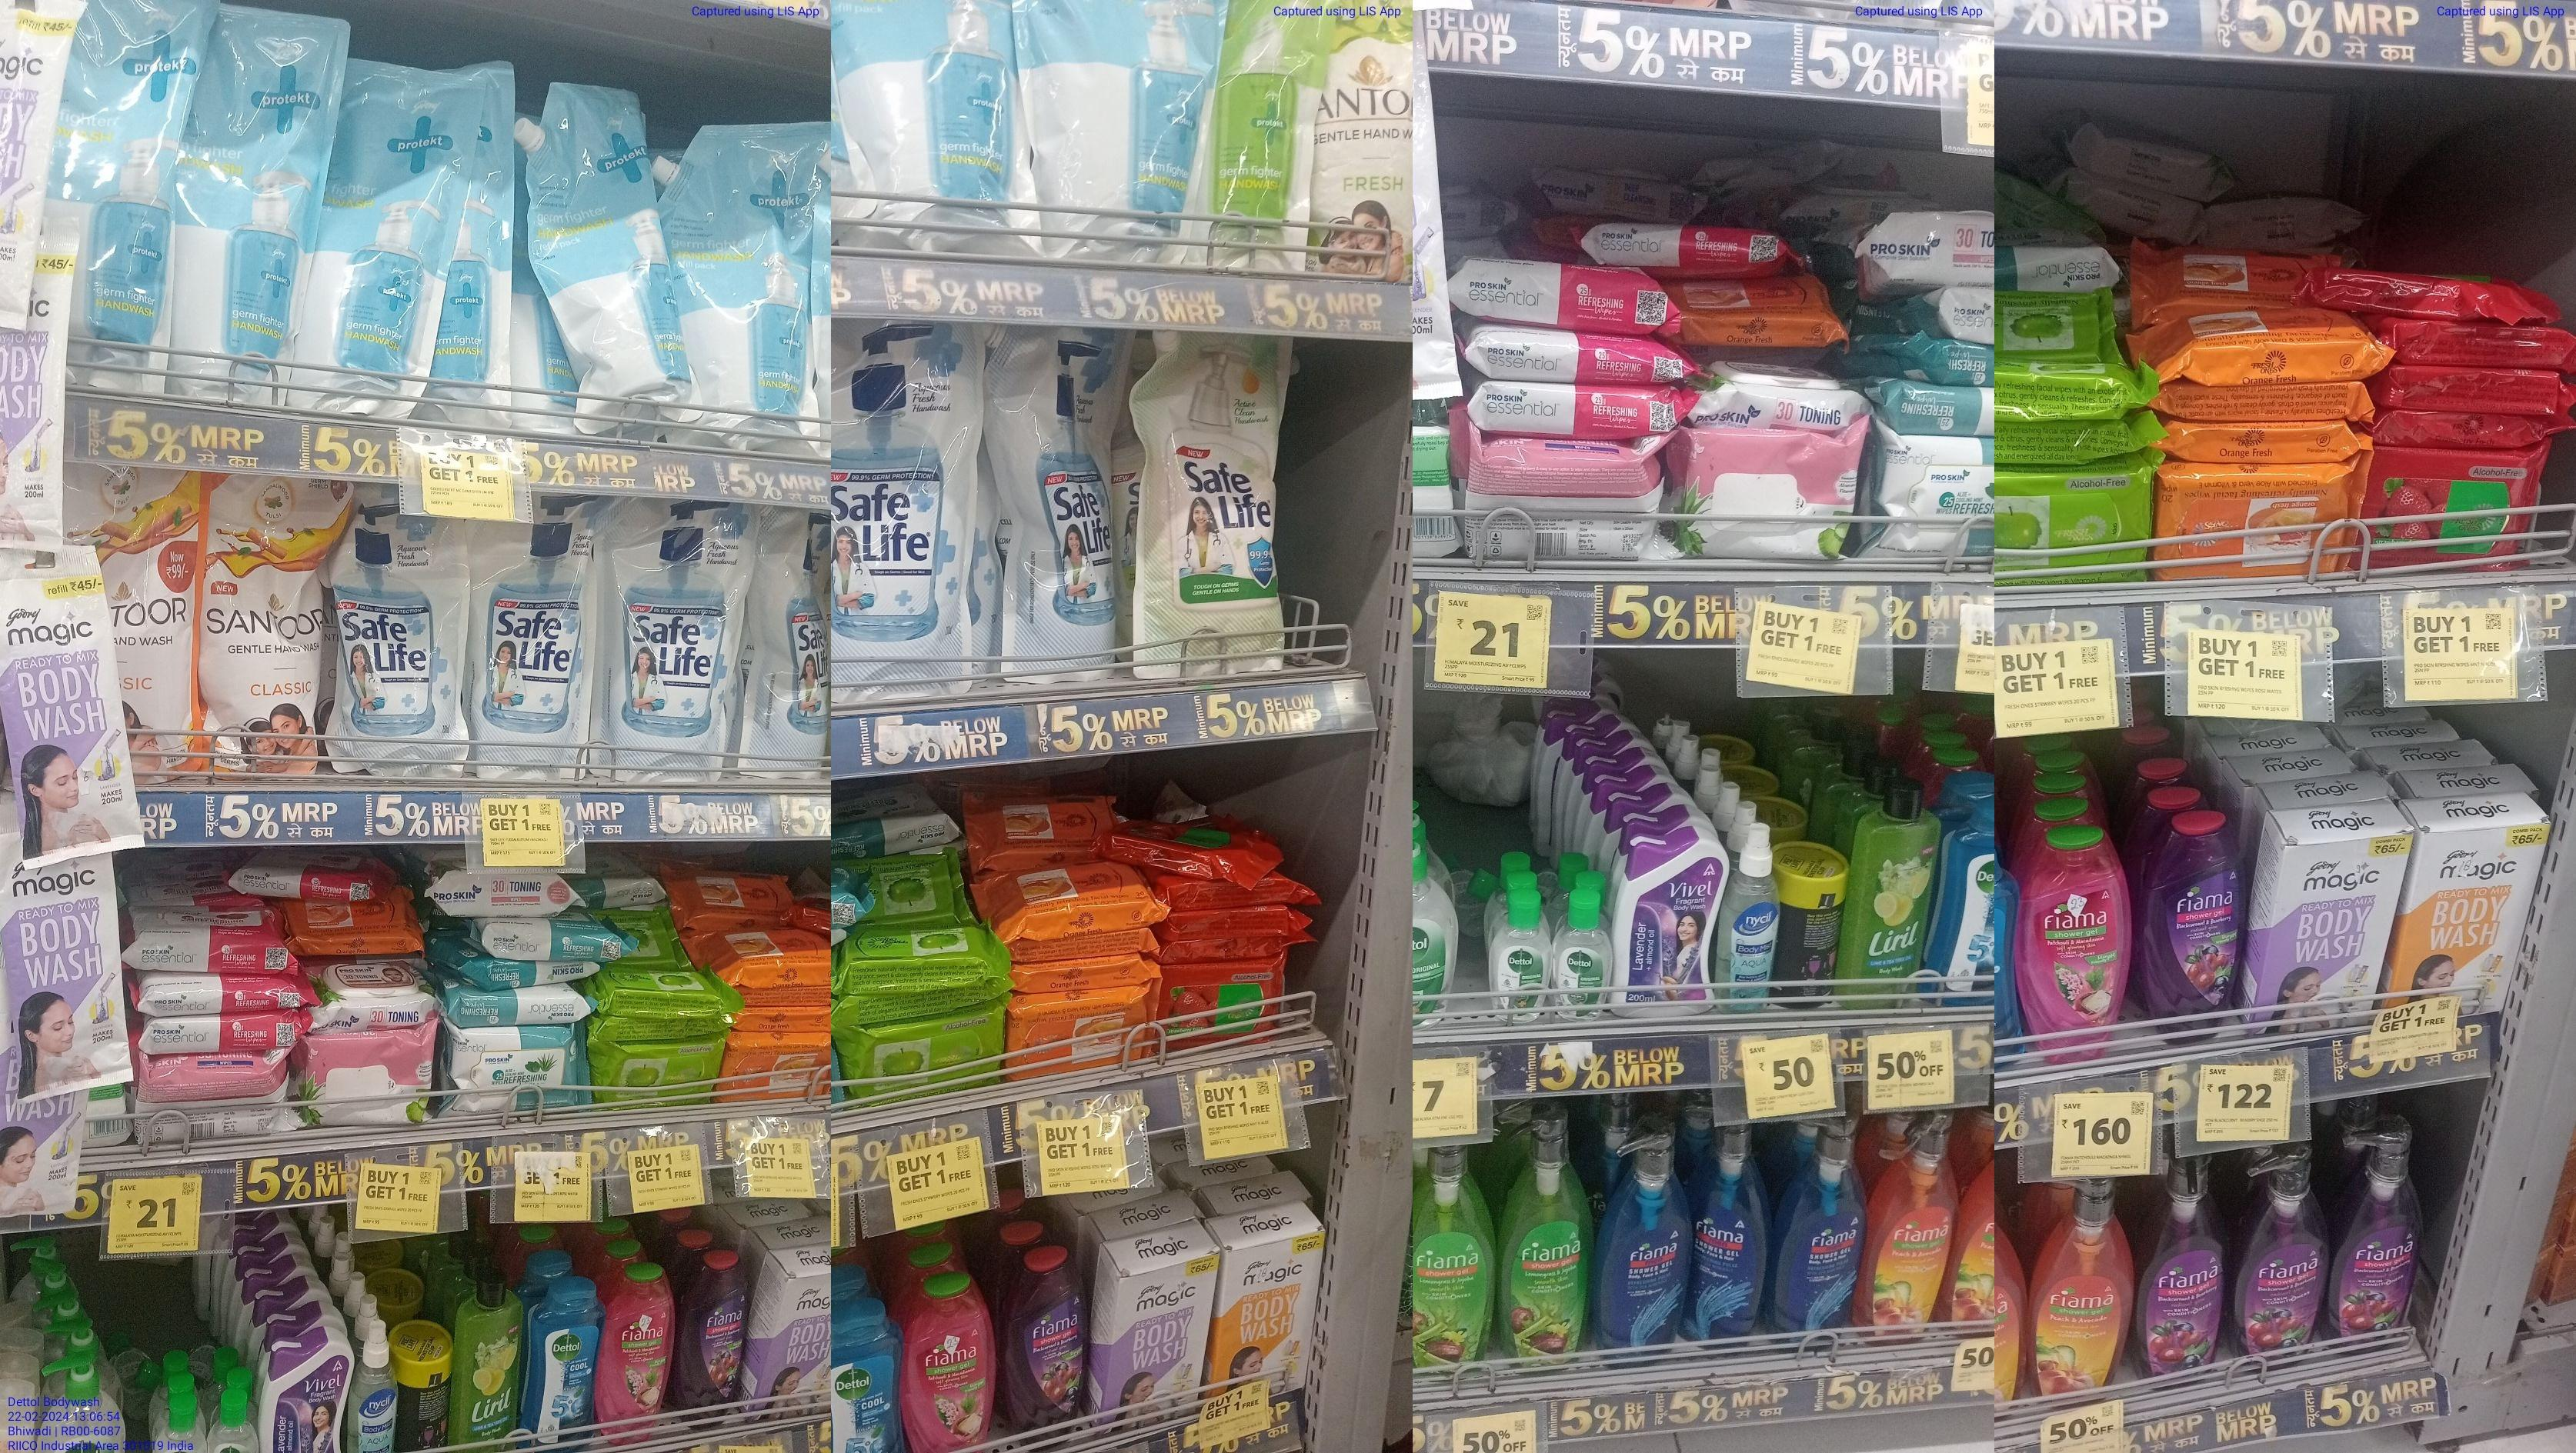Dettol_Bodywash_Cool: (527, 1276, 594, 1451), (830, 1290, 899, 1453)
Fiama_Shower_Gel_Patchouli_and_Macadamia_250ML: (2017, 820, 2130, 1061), (902, 1267, 993, 1451), (600, 1260, 672, 1448)
Liril_Lime_and_Tea_Tree_Oil_Body_Wash_250ML: (1844, 783, 1927, 1008), (456, 1271, 517, 1446)
